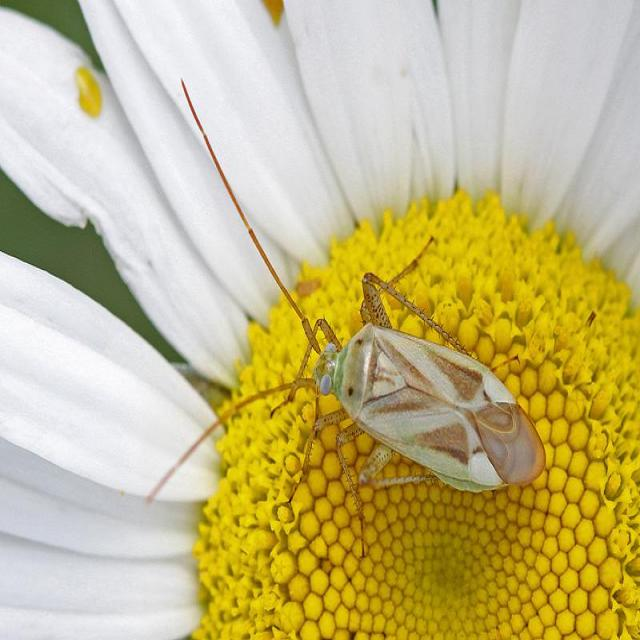Miridae-Adult-: (150, 81, 551, 519)
